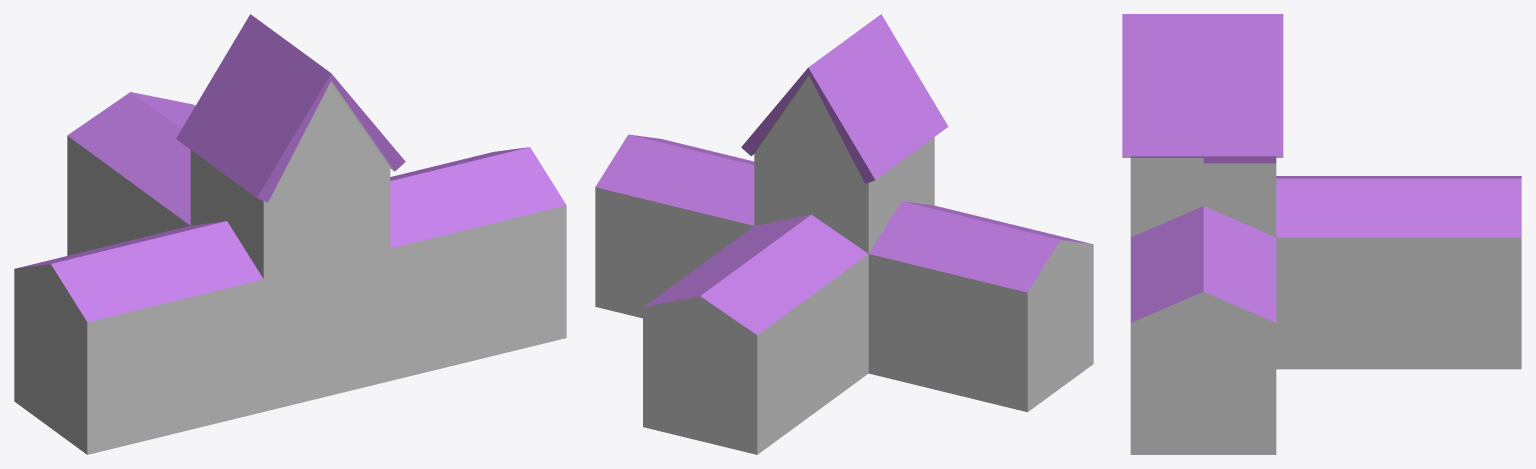
Rendered from Townhall.fbx.
3 renders of one model, left to right at view 1: azimuth 30°, elevation 25°; view 2: azimuth 150°, elevation 25°; view 3: azimuth 270°, elevation 25°, orthographic. The views are drawn at different scales.
Visible parts, largest first — view 1: Cube; view 2: Cube; view 3: Cube.
Part boxes in pixels (x1=…): Cube: x1=14, y1=14, x2=566, y2=454; Cube: x1=595, y1=14, x2=1093, y2=454; Cube: x1=1122, y1=14, x2=1521, y2=454.
Size of the model in its own units: 1322 by 860 by 959.
